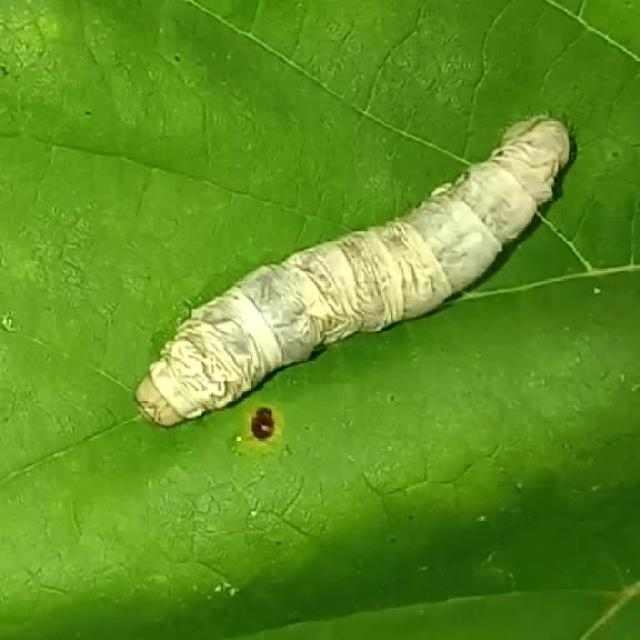Grasserie: (132, 86, 593, 434)
